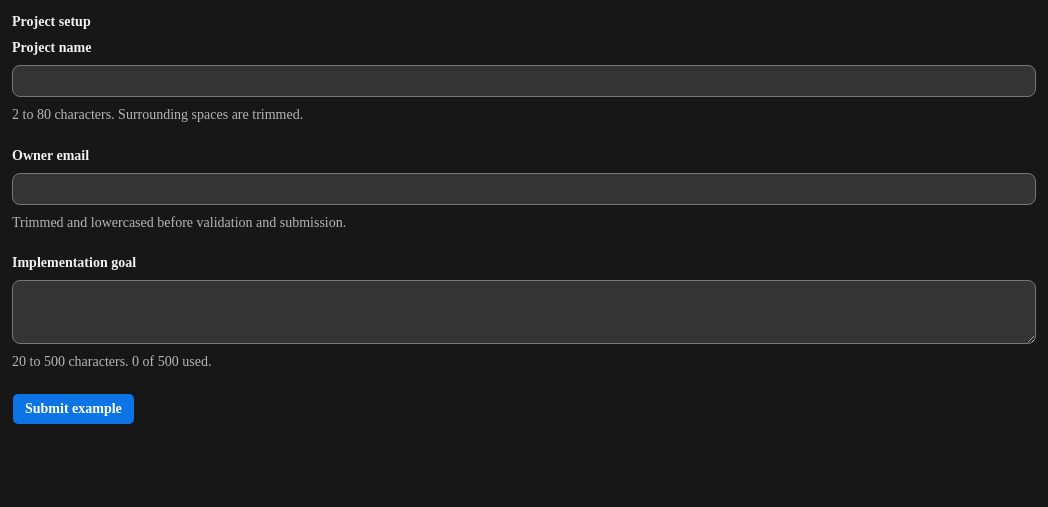
it: ReferenceForm — submission › keeps a form-level server error separate, focused, and outside the fields
In the field labelled "Project name": [524, 81] box [12,65,1036,97], type "Atlas"
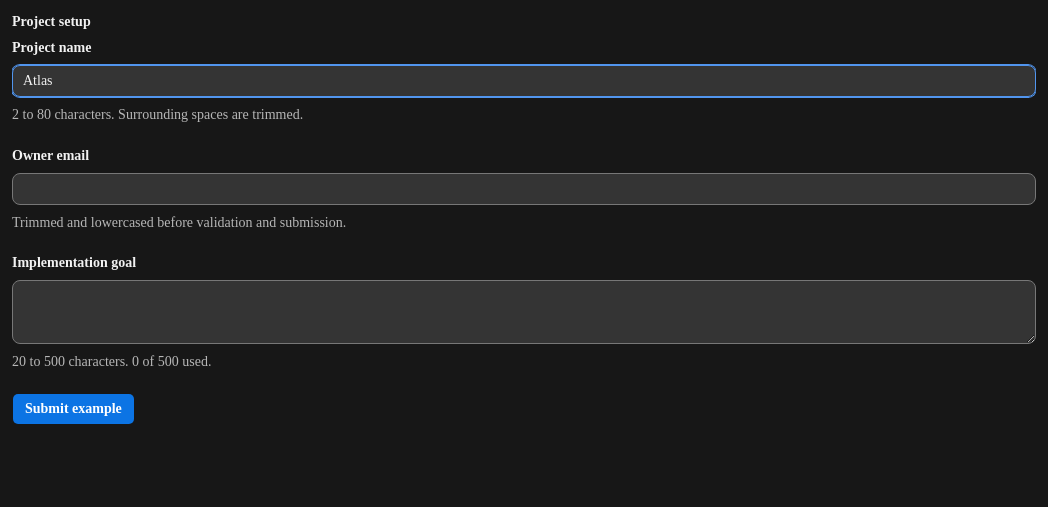
In the field labelled "Owner email": [524, 189] box [12,173,1036,205], type "unavailable@example.com"
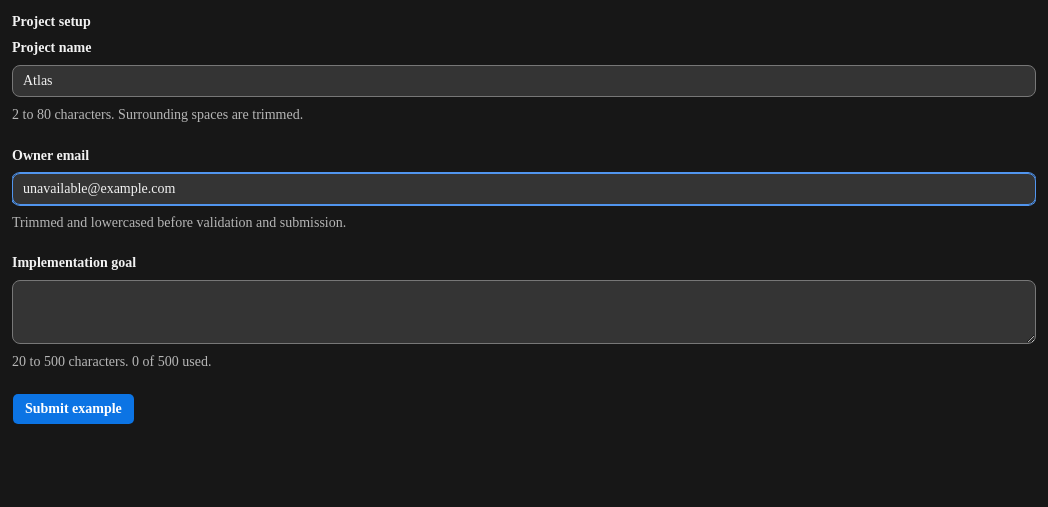
In the text box labelled "Implementation goal": [524, 312] box [12,280,1036,344], type "Prove the reference wiring end to end."
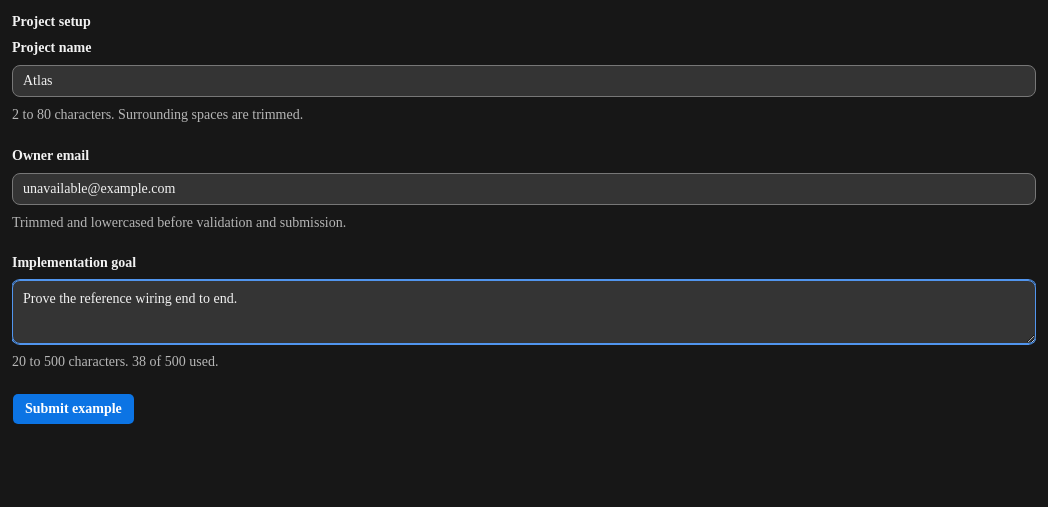
Click the button: [73, 409] box [12,393,135,425]
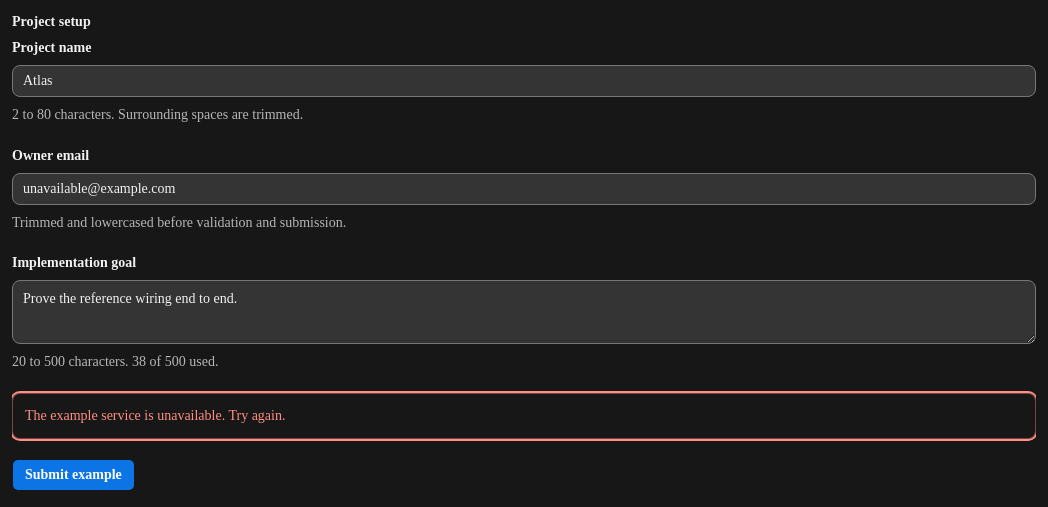
Check: the message reads "The example service is unavailable. Try again.", box [25,408,286,423]
